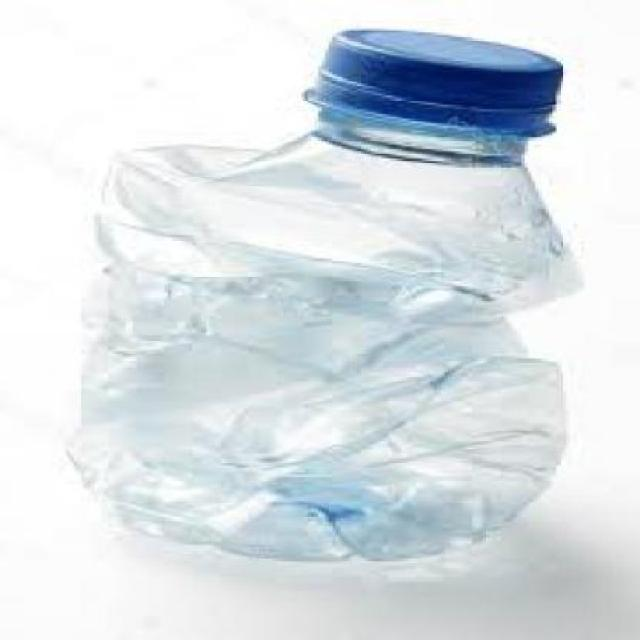PLASTIC: (71, 30, 579, 558), (320, 30, 562, 136)
